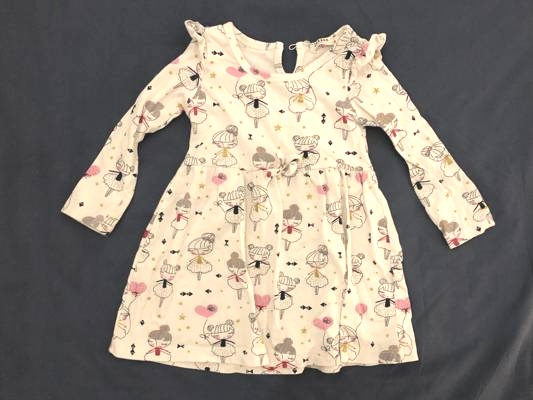Dress: (75, 8, 510, 386)
